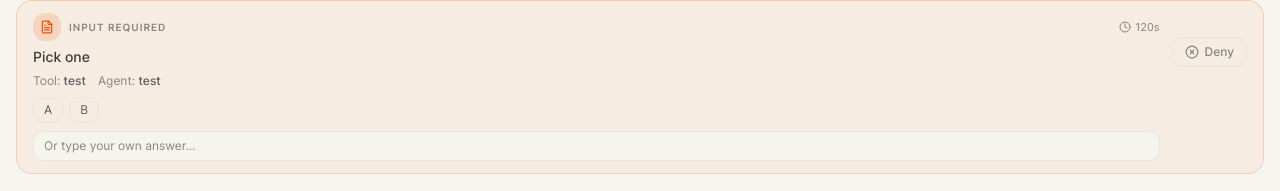
Test: GuidanceInterventionCard: custom input flow › form mode: typing custom text clears selected option
This screenshot has width=1280, height=191.
Click the button "A" at (48, 110), box [33,97,63,123]
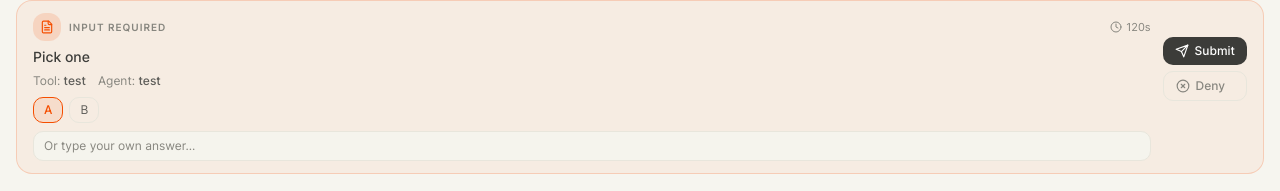
Expected: the button "Submit" is shown, [1163,37,1247,65]
Type "custom" into the field with placeholder "Or type your own answer..." at (592, 146), box [33,131,1151,161]
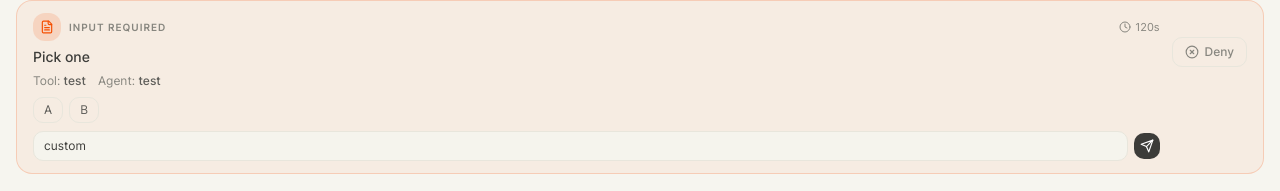
Expected: the button "Submit" is gone
